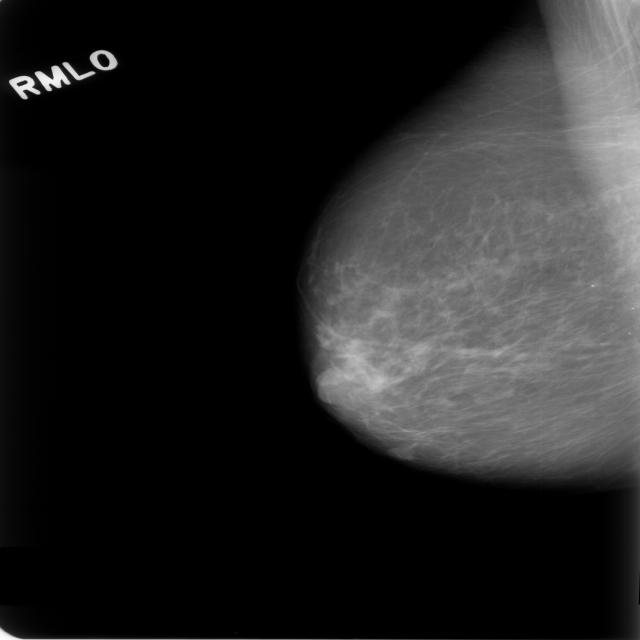cancer: (278, 264, 429, 442)
